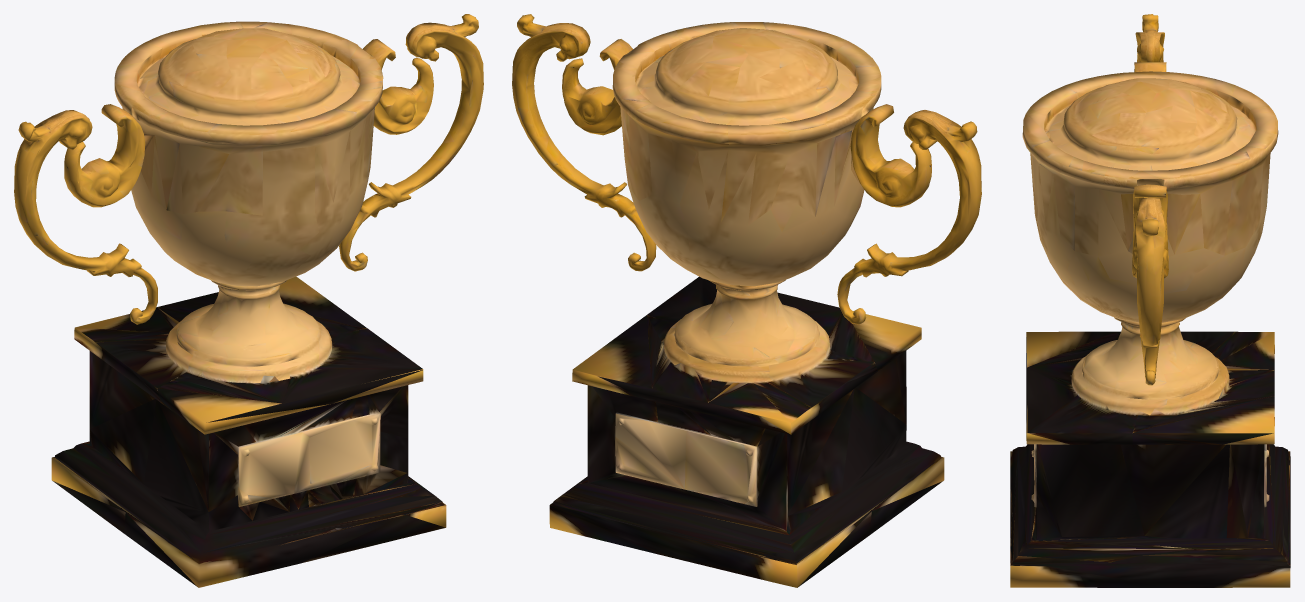
Rendered from house_cup.glb.
3 renders of one model, left to right at view 1: azimuth 30°, elevation 25°; view 2: azimuth 150°, elevation 25°; view 3: azimuth 270°, elevation 25°, orthographic. The views are drawn at different scales.
Parts seen in each view (by area): view 1: house_cup; view 2: house_cup; view 3: house_cup.
Boxes of the visible parts, x1,y1,x2,y2 form: house_cup: (14,14,483,587); house_cup: (512,14,981,587); house_cup: (1010,14,1290,587).
Bounding box in the file's own units: 0.7916 × 0.7501 × 0.435.
1 material, 1 textured.
